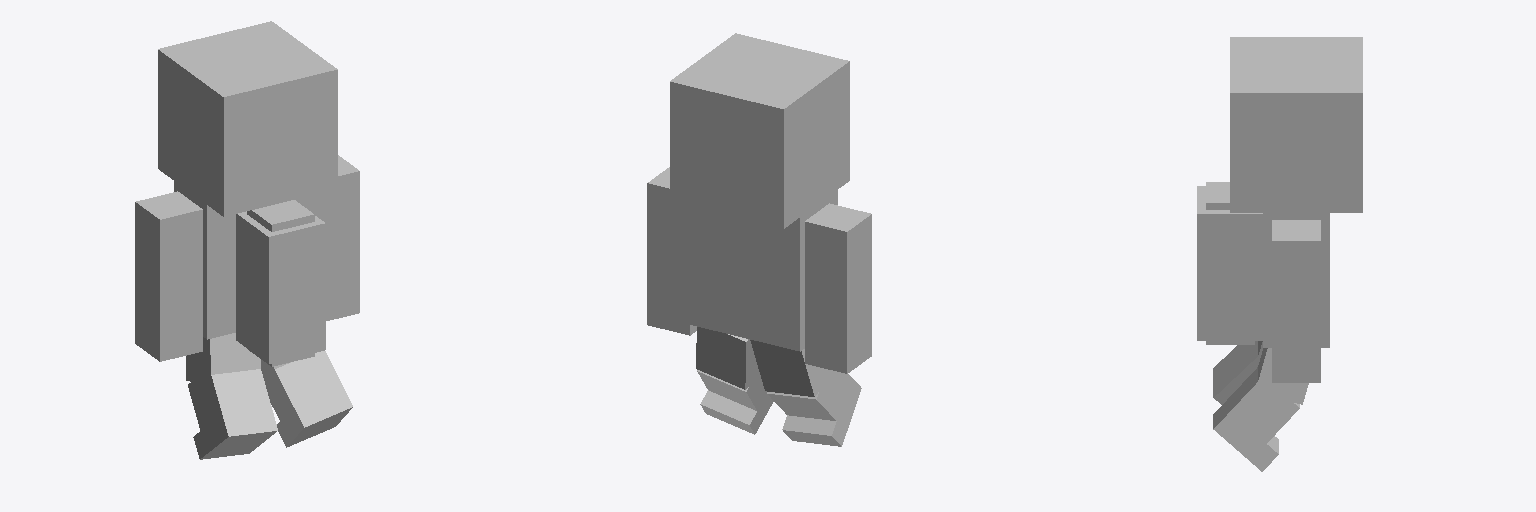
Rendered from Astronaut_klein.obj.
3 renders of one model, left to right at view 1: azimuth 30°, elevation 25°; view 2: azimuth 150°, elevation 25°; view 3: azimuth 270°, elevation 25°, orthographic.
Visible parts, largest first — view 1: Astronatut.003; view 2: Astronatut.003; view 3: Astronatut.003.
Part boxes in pixels (bbox=[...]): Astronatut.003: bbox=[135, 21, 359, 459]; Astronatut.003: bbox=[647, 33, 871, 446]; Astronatut.003: bbox=[1197, 37, 1362, 471].
Bounding box in the file's own units: 0.875 × 1.59 × 0.625.